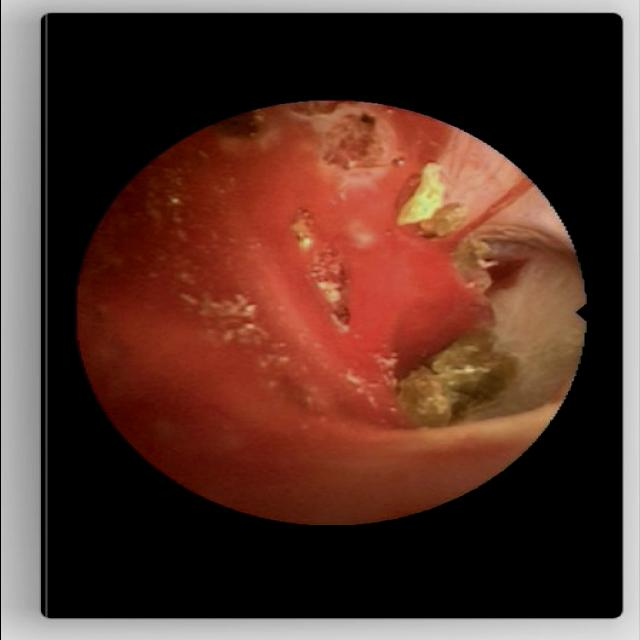stone: (395, 334, 516, 427), (397, 162, 463, 234), (452, 235, 482, 288)
